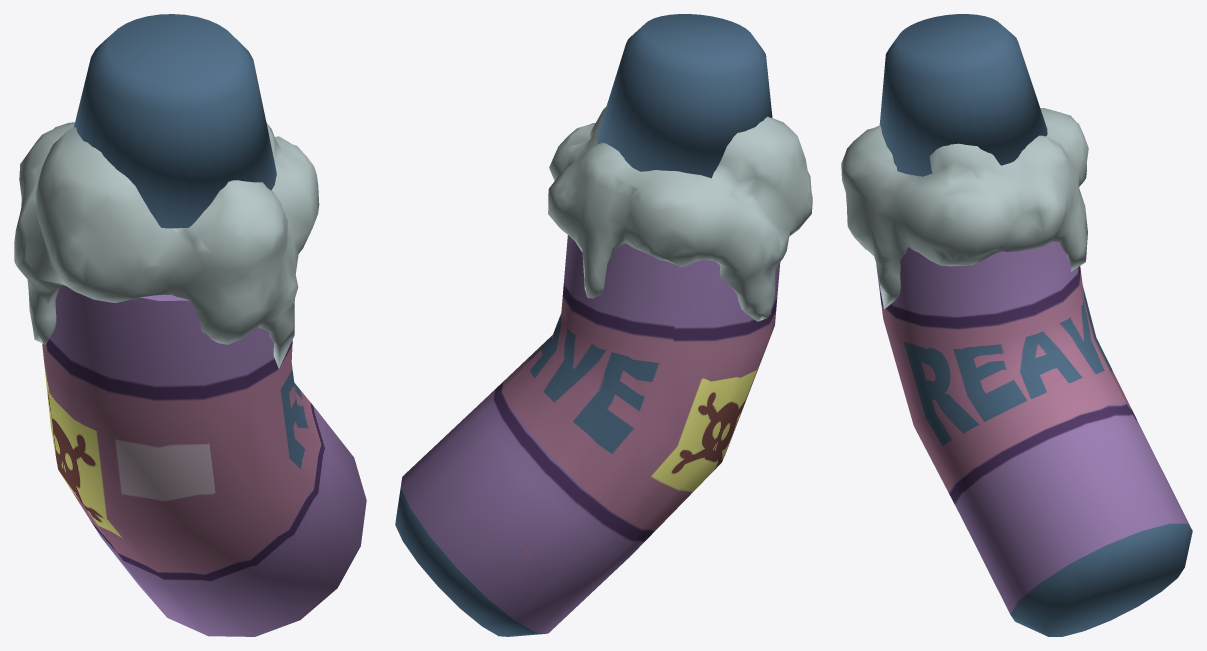
The model's file is insecticide3.fbx.
The picture shows the model from 3 angles, left to right: view 1: azimuth 30°, elevation 25°; view 2: azimuth 150°, elevation 25°; view 3: azimuth 270°, elevation 25°; orthographic projection. The views are drawn at different scales.
Visible parts, largest first — view 1: Cylinder.001; view 2: Cylinder.001; view 3: Cylinder.001.
Part boxes in pixels (x1,y1,x2,y2): Cylinder.001: (14,14,366,636); Cylinder.001: (395,14,812,636); Cylinder.001: (841,14,1192,636).
Bounding box in the file's own units: 330 × 559 × 326.
Materials: 1 (1 with a texture image).
